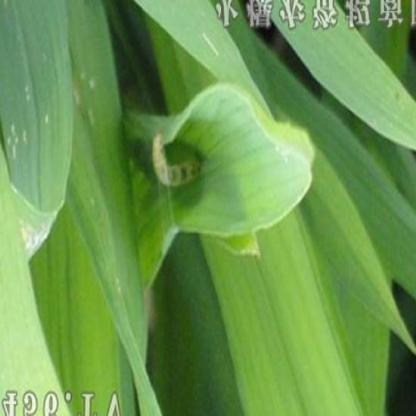leaf-folder: (142, 119, 210, 204)
